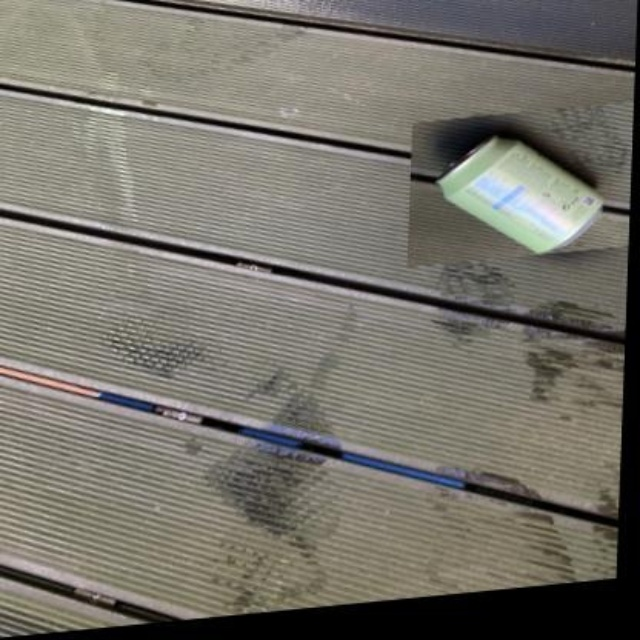trash: (437, 137, 602, 252)
